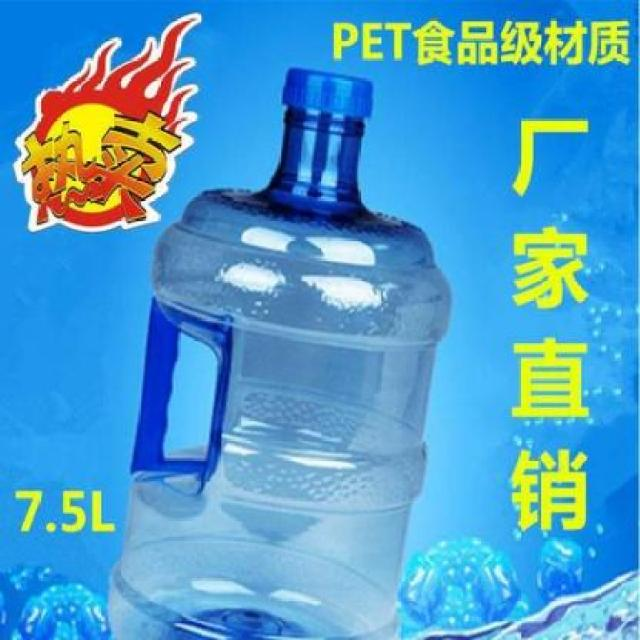coolerbottle: (107, 63, 456, 639)
